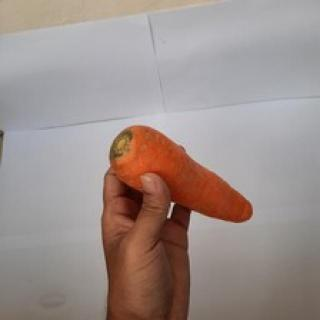carrot: (108, 121, 255, 225)
